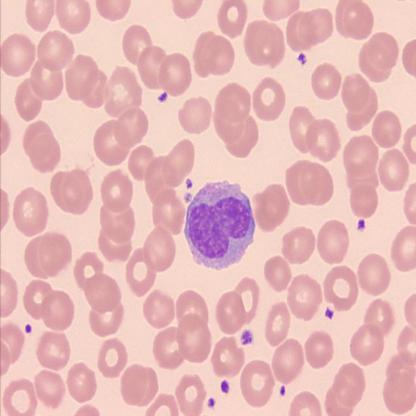Monocyte: (182, 178, 256, 274)
